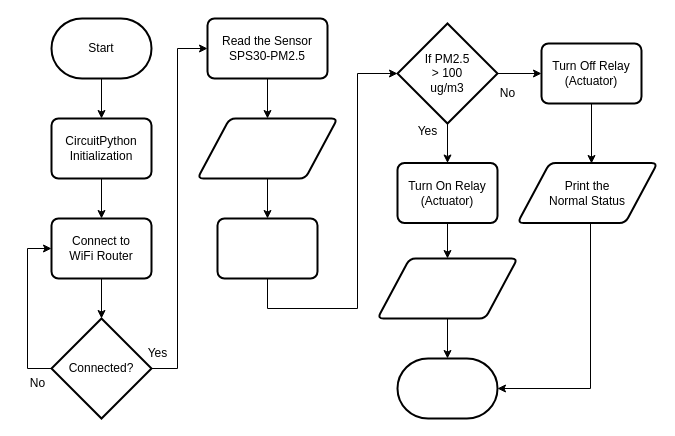
The diagram is 675 pixels wide and 436 high, and some of its shapes have lost their labels. The shapes that lost their labels are listed below. From the top down, each one's centre as x and y in pixels, then its label:
At [267,148]: "Put the Value Sensor to URL ESP32".
At [267,248]: "HTTP-Get URL Data goes to kirimdata.php".
At [447,288]: "Print the Danger Status".
At [447,388]: "End".
